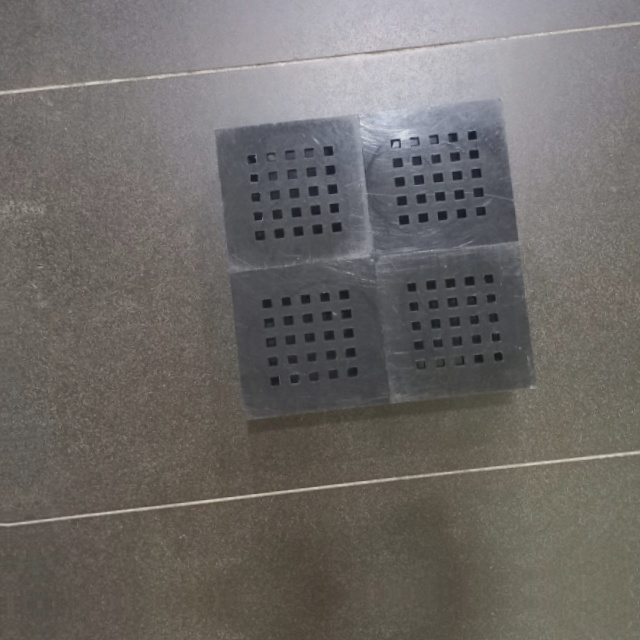pallet: (208, 91, 544, 428)
